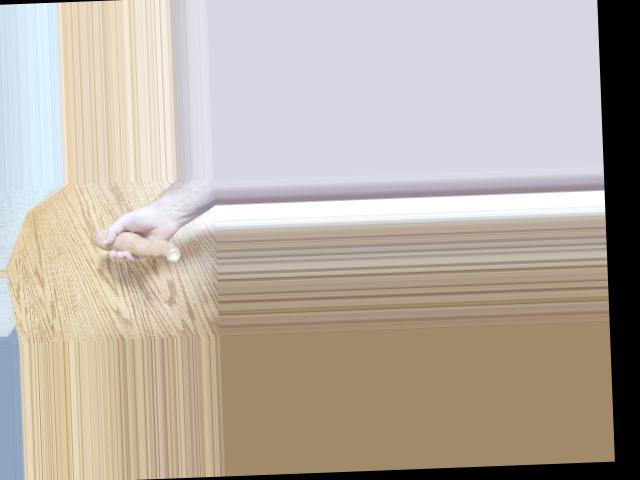sweet_potato: (99, 222, 188, 260)
